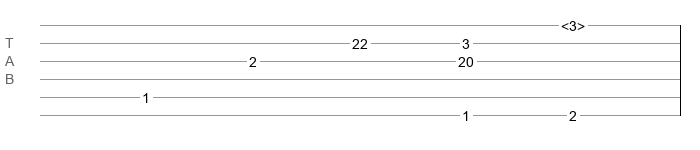1: (142, 90, 150, 100), (462, 108, 470, 118)
2: (249, 54, 257, 64), (569, 108, 577, 118)
20: (458, 54, 474, 64)
22: (352, 36, 368, 46)
3: (462, 36, 470, 46)
harmonic: (561, 18, 585, 28)
